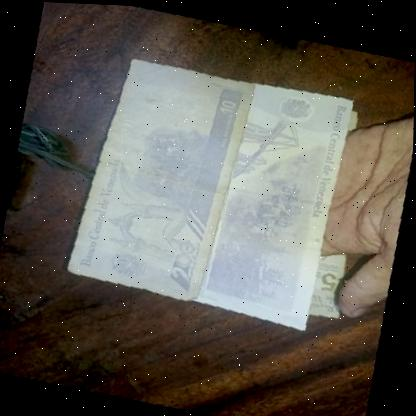five-front-vef: (287, 95, 392, 320)
ten-back-vef: (68, 47, 254, 307)
two_hundred-back-vef: (176, 62, 371, 333)
